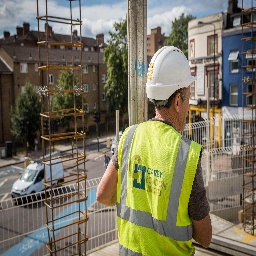helmet: (144, 45, 198, 106)
person: (116, 44, 212, 256)
vest: (120, 121, 207, 256)
